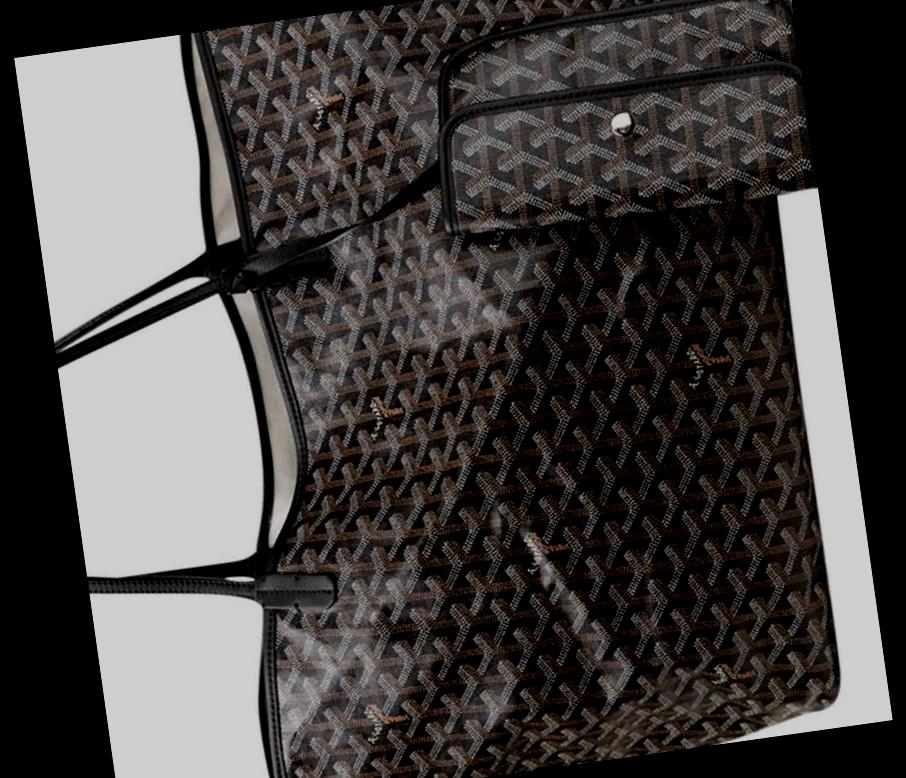GOYARD: (182, 0, 850, 778), (428, 0, 817, 236)
